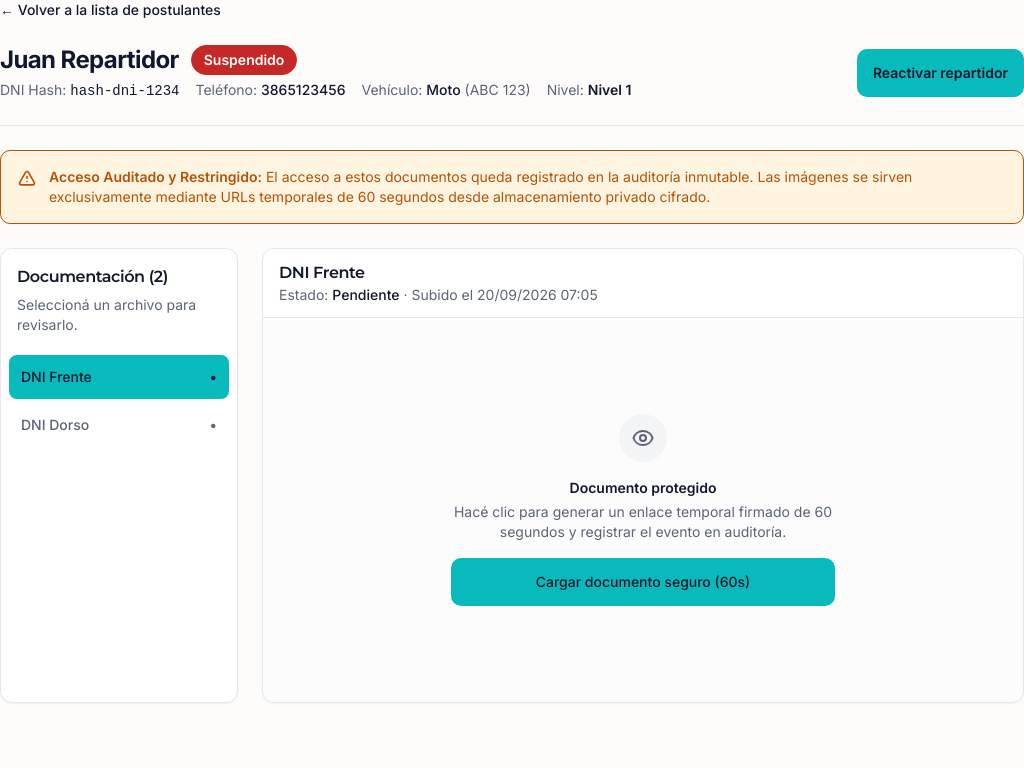
Test: T-380: reactivar o reconsiderar con reinstateCourierAction (CC-034) › idempotent: true (ya estaba aprobado) se trata como éxito
Click the button "Reactivar repartidor" at [940, 72], box [857,48,1023,96]
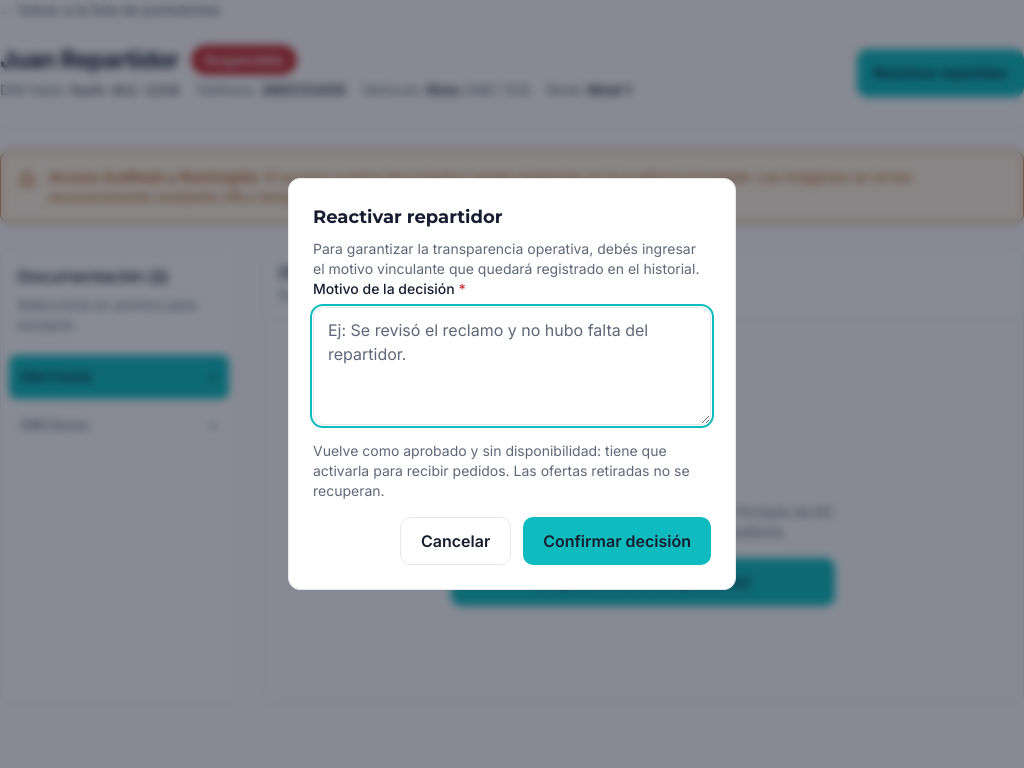
Type "Se revisó el reclamo y no hubo falta del repartidor." into the text box labelled "Motivo de la decisión *" at [512, 366], box [313,307,711,425]
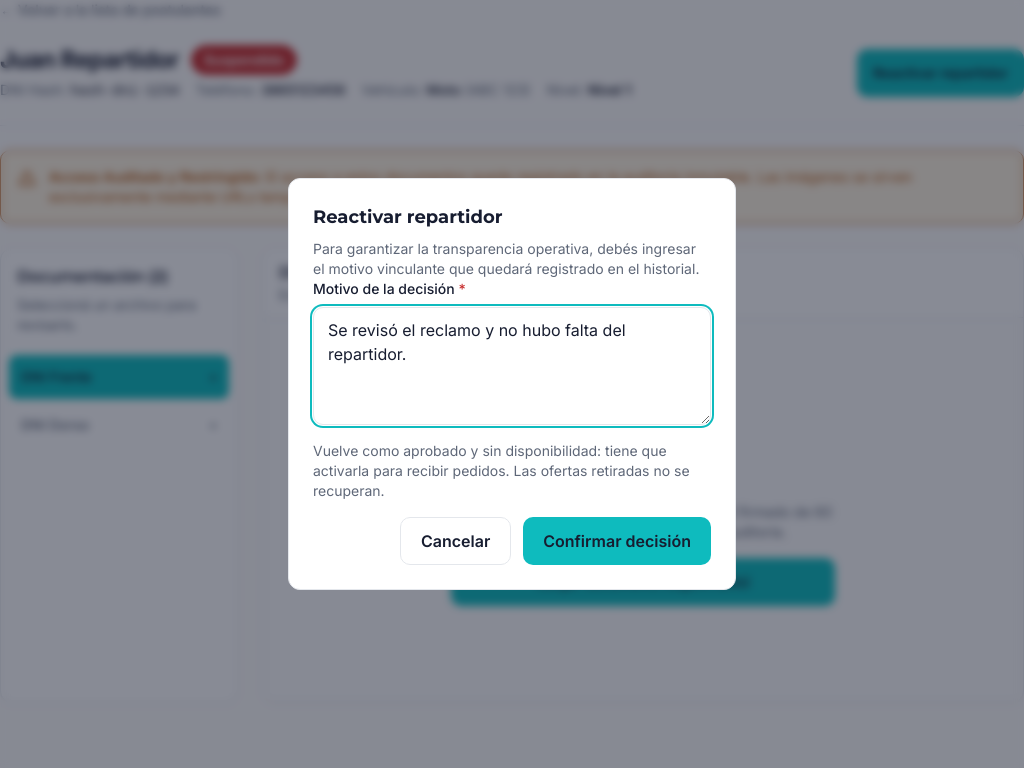
Click the button "Confirmar decisión" at [617, 541], box [523,517,711,565]
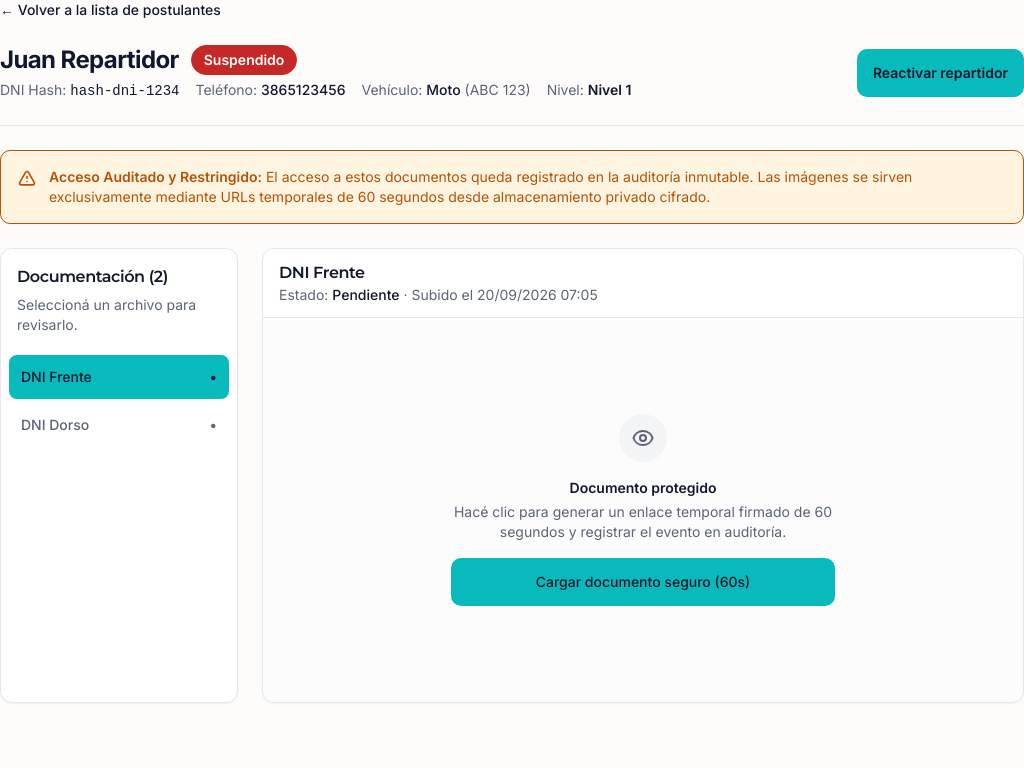
Now the dialog is gone
